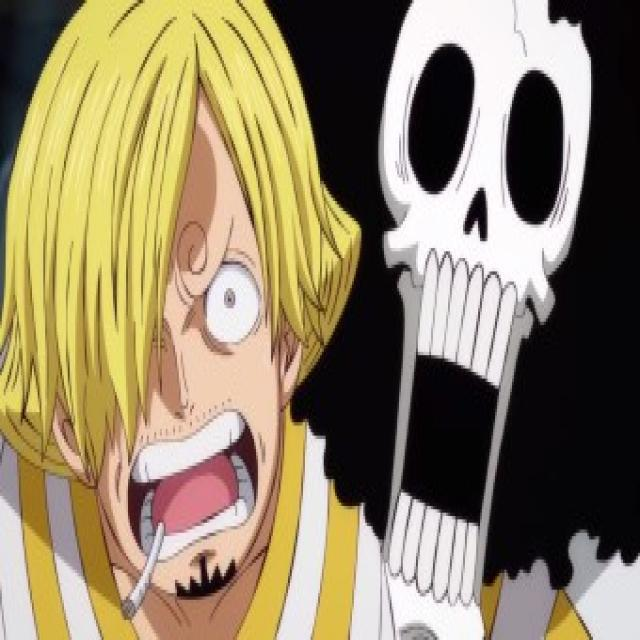Blook: (355, 0, 640, 626)
Sangdi: (0, 0, 335, 621)
